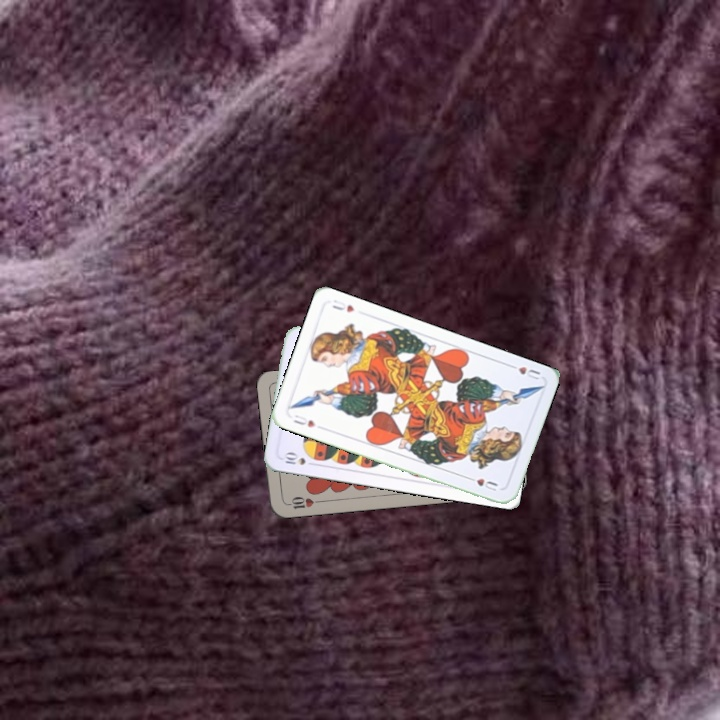H10: (283, 493, 323, 512)
HU: (504, 360, 543, 383), (289, 410, 318, 430)
S10: (280, 449, 319, 468)
